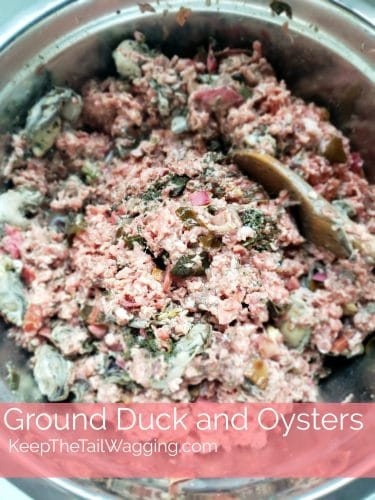ground_beef: (98, 175, 251, 314)
